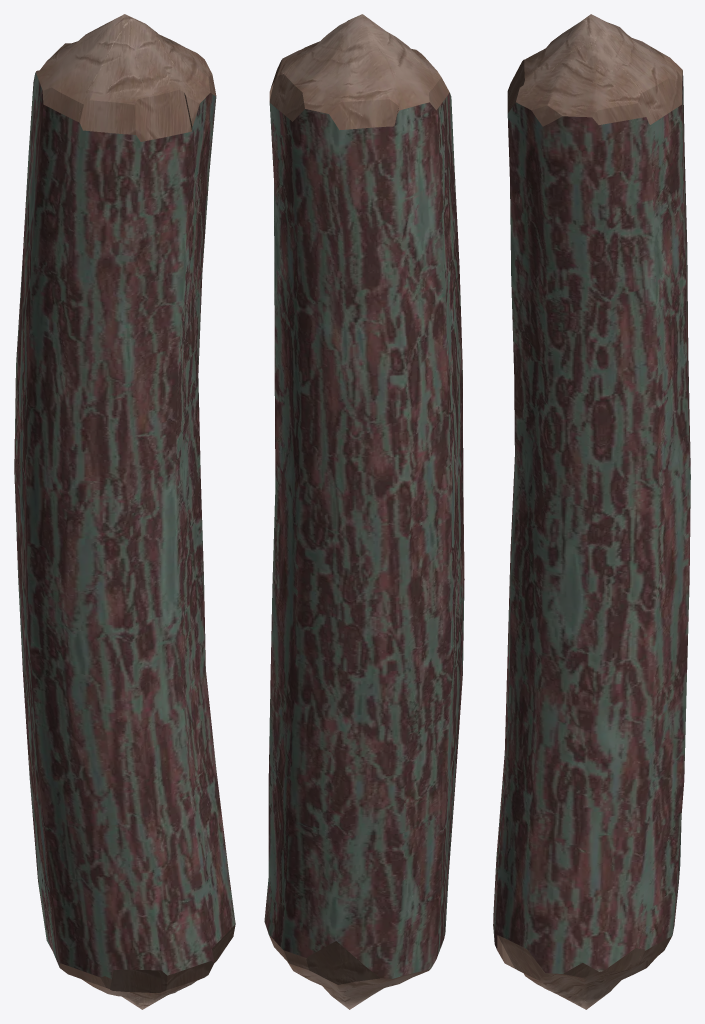
The picture shows the model from 3 angles, left to right: view 1: azimuth 30°, elevation 25°; view 2: azimuth 150°, elevation 25°; view 3: azimuth 270°, elevation 25°; orthographic projection.
Parts seen in each view (by area): view 1: SM_MapleTree_01_quarter_03_LOD0; view 2: SM_MapleTree_01_quarter_03_LOD0; view 3: SM_MapleTree_01_quarter_03_LOD0.
Boxes of the visible parts, x1,y1,x2,y2 form: SM_MapleTree_01_quarter_03_LOD0: (14,14,235,1009); SM_MapleTree_01_quarter_03_LOD0: (264,14,464,1009); SM_MapleTree_01_quarter_03_LOD0: (493,14,690,1009).
Bounding box in the file's own units: 0.5418 × 2.77 × 0.5014.
Materials: 1 (1 with a texture image).
